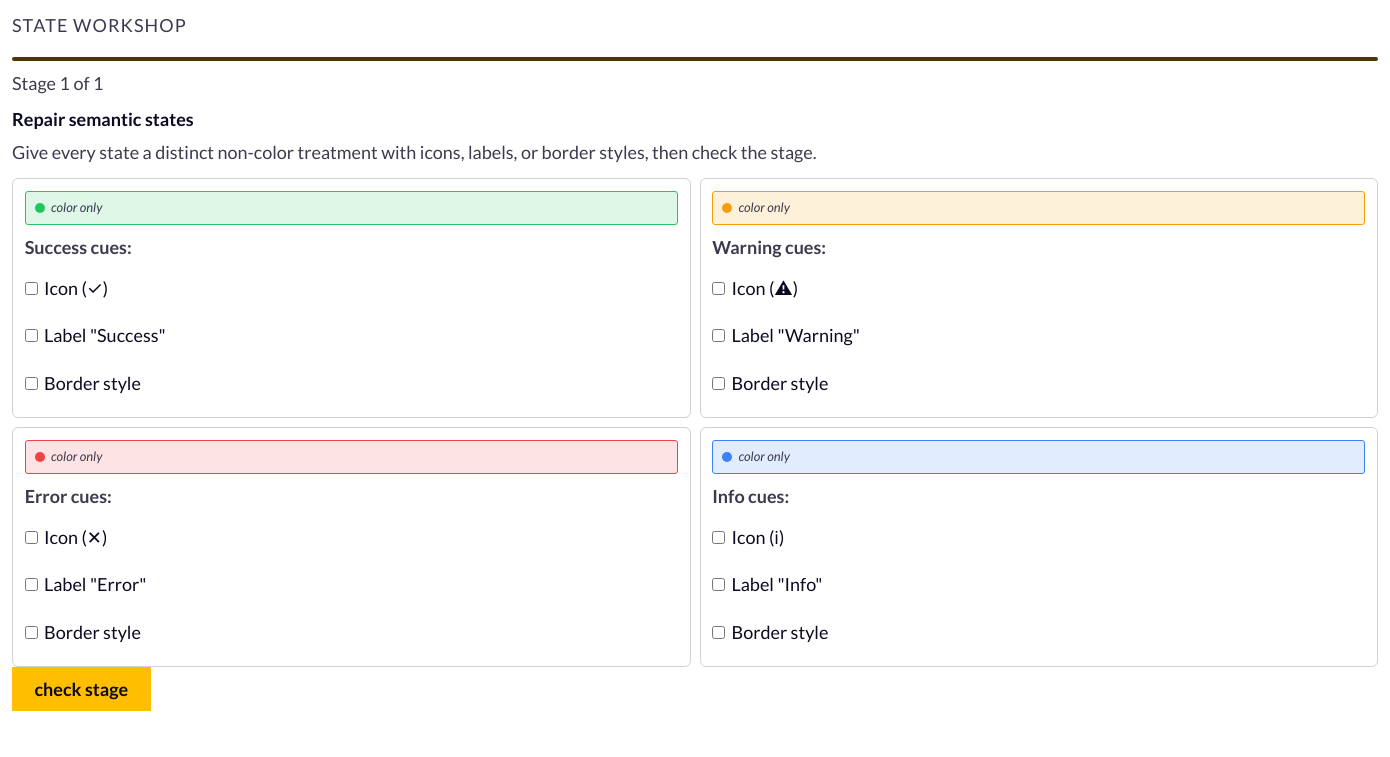
Test case: StateWorkshopTool › does not complete when two states have the same border-only treatment
Click the checkbox labelled "Border style" below "Label \"Success\"": (31, 383) 25,377 -> 38,390
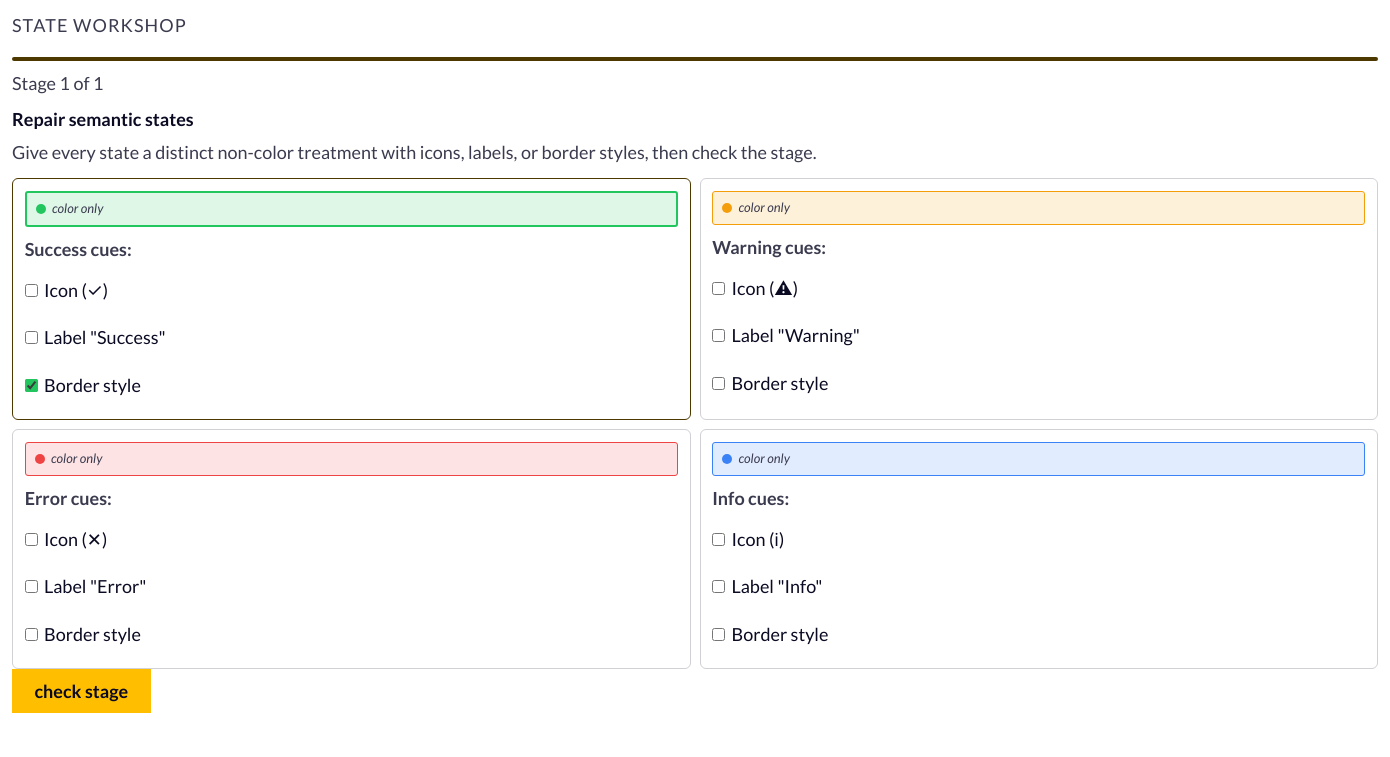
Click the checkbox labelled "Border style" below "Label \"Warning\"": (719, 383) 712,377 -> 725,390
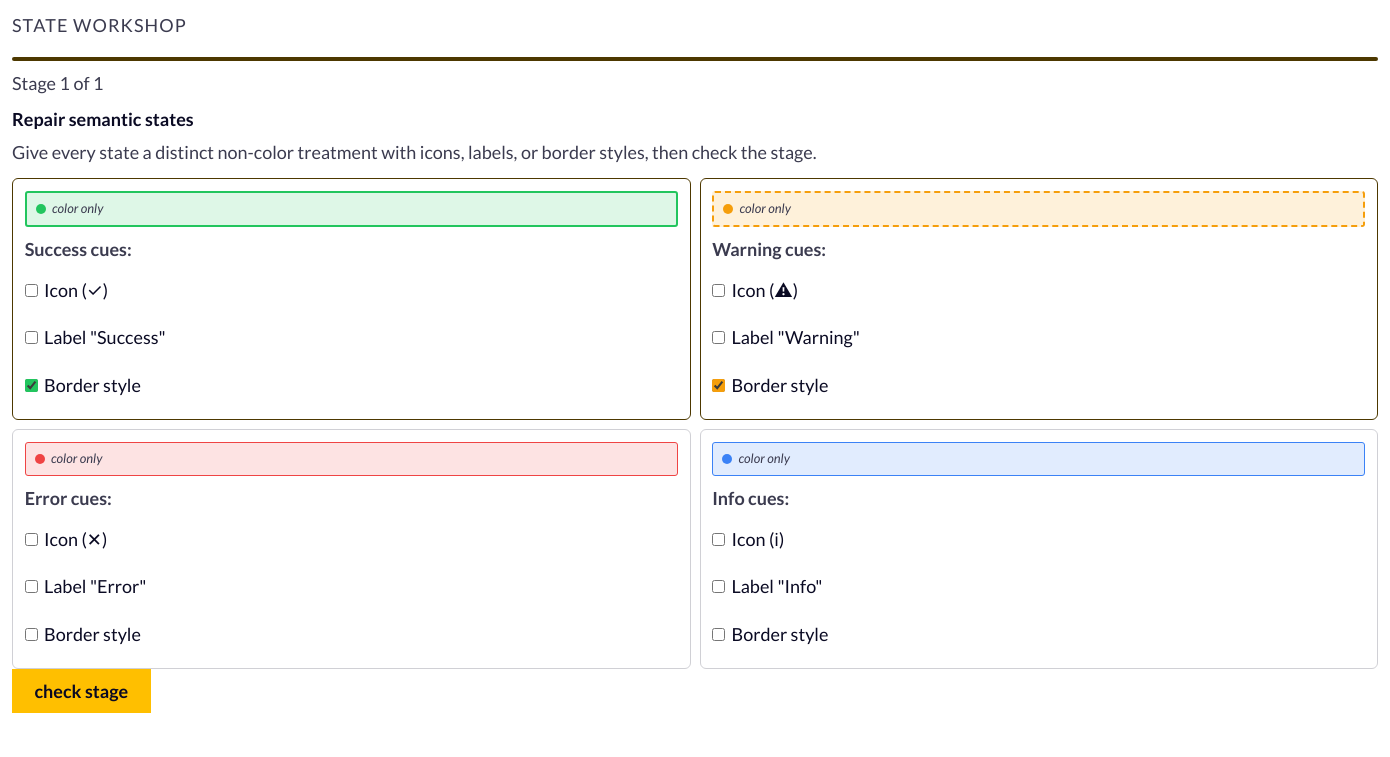
Click the checkbox labelled "Border style" below "Label \"Error\"": (31, 634) 25,628 -> 38,641
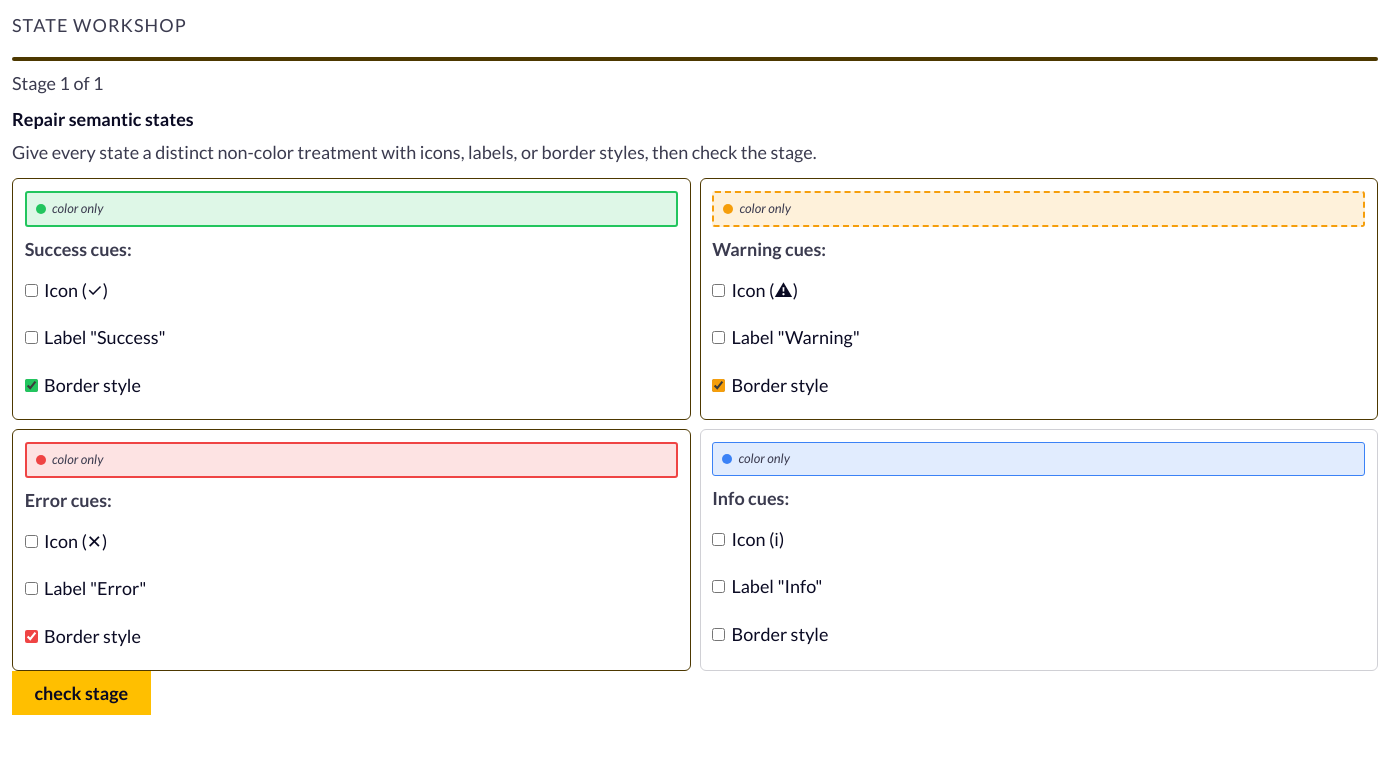
Click the checkbox labelled "Border style" below "Label \"Info\"": (719, 634) 712,628 -> 725,641
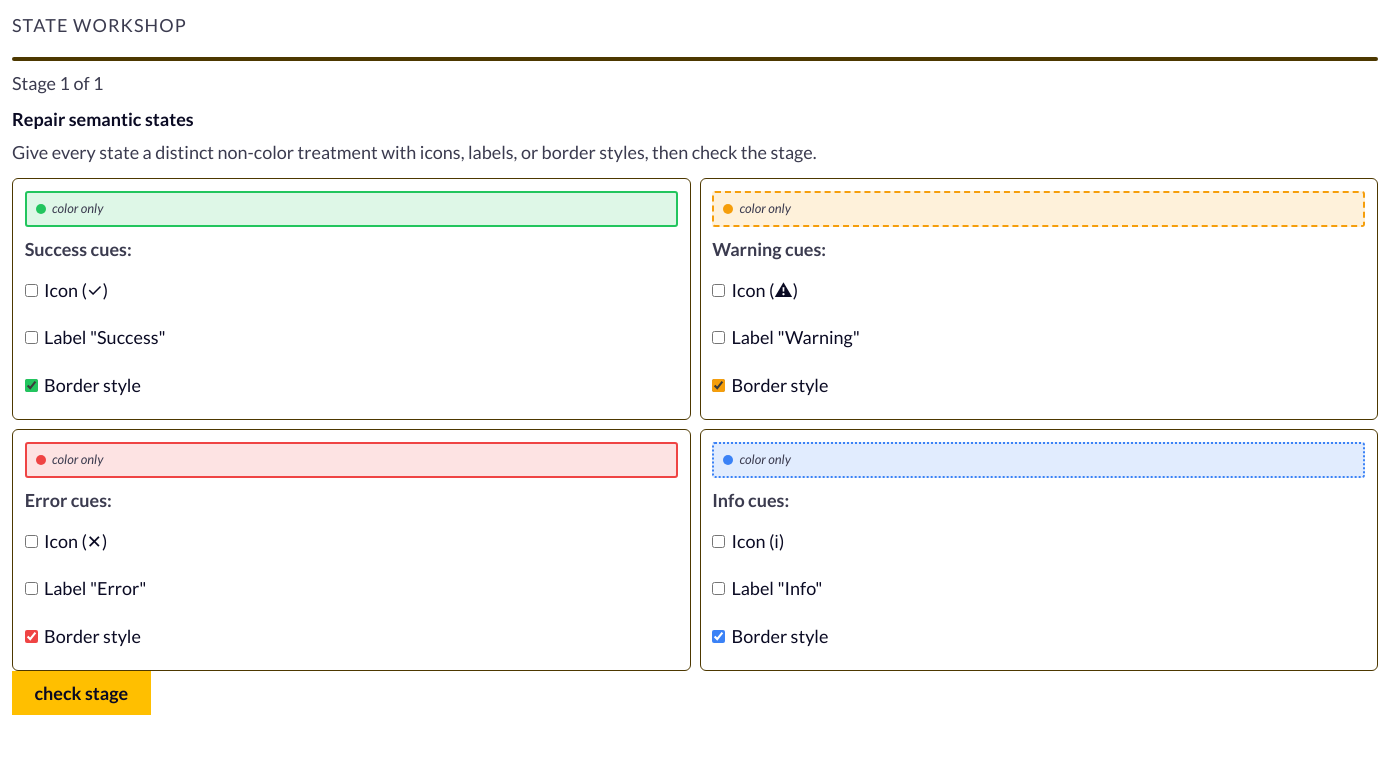
Click the button "check stage": (81, 693) 12,671 -> 151,715
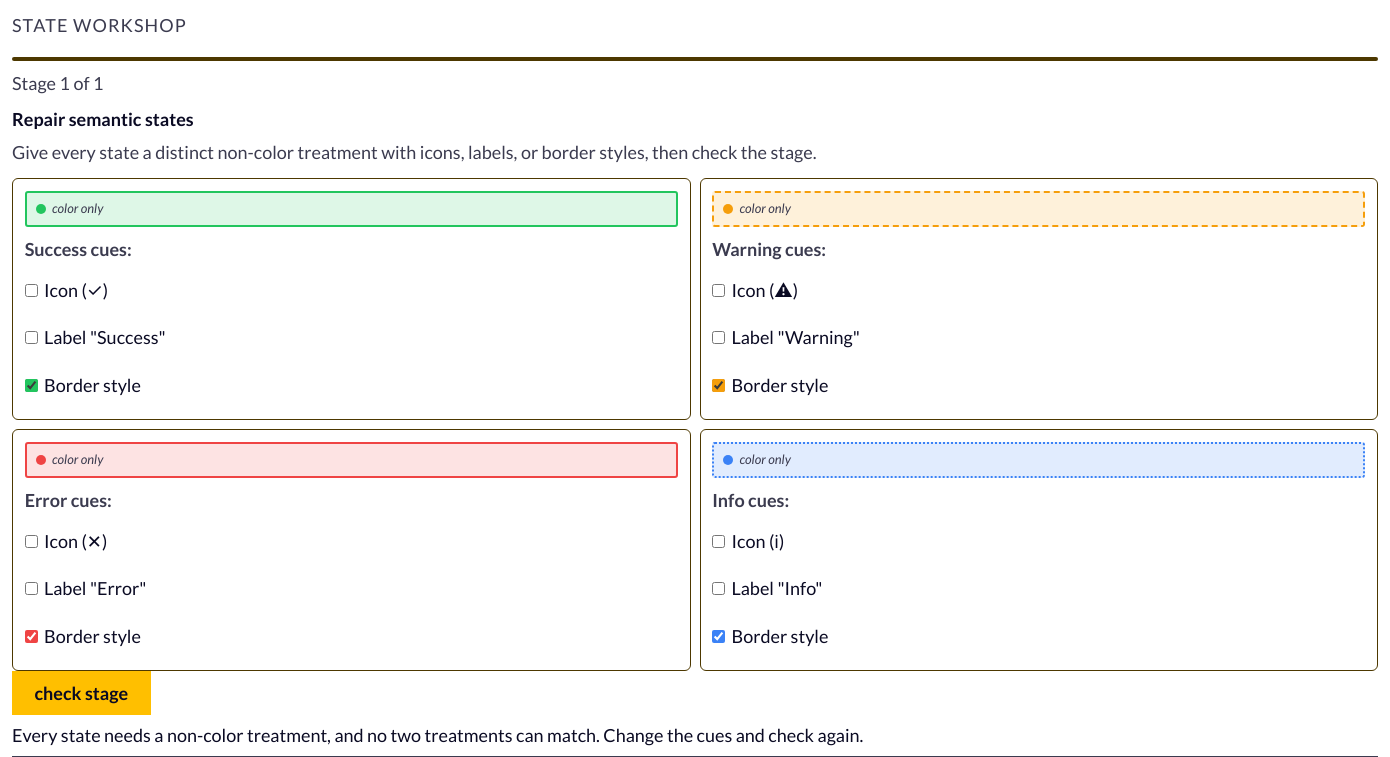
Result: the text "Every state needs a non-color treatment" is shown at 12,724 -> 863,746
